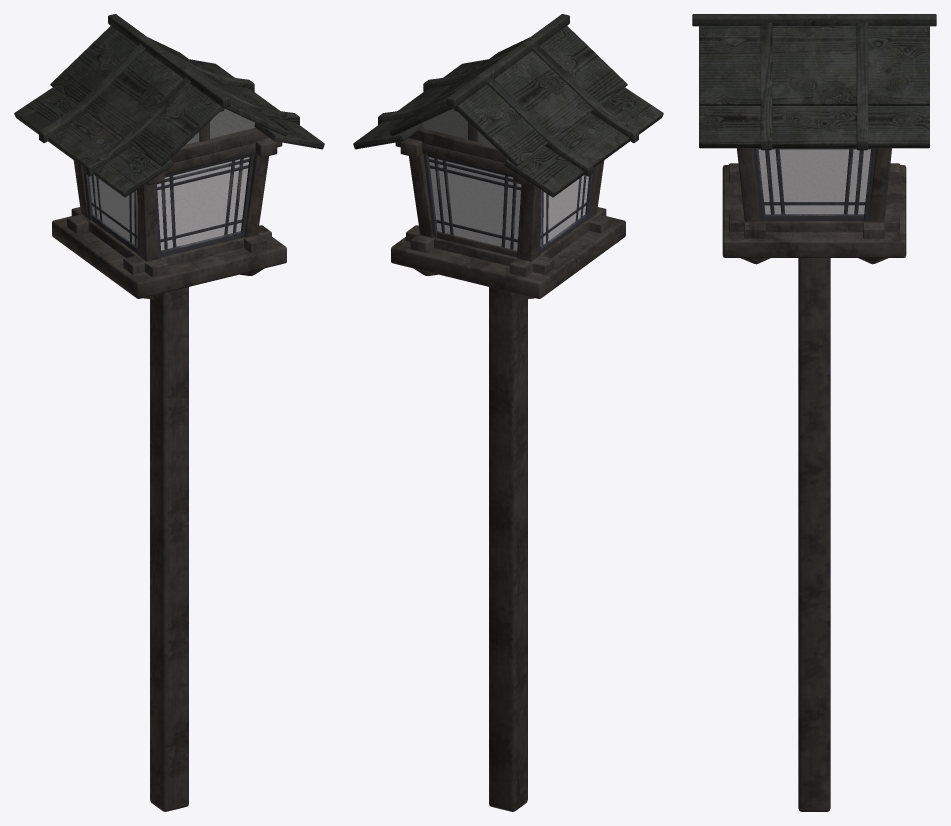
Rendered from Lantern1.fbx.
3 renders of one model, left to right at view 1: azimuth 30°, elevation 25°; view 2: azimuth 150°, elevation 25°; view 3: azimuth 270°, elevation 25°, orthographic. The views are drawn at different scales.
Visible parts, largest first — view 1: Lantern1; view 2: Lantern1; view 3: Lantern1.
Boxes of the visible parts, left/top/right/bottom form: Lantern1: left=14, top=14, right=324, bottom=811; Lantern1: left=353, top=14, right=663, bottom=811; Lantern1: left=692, top=14, right=936, bottom=811.
Size of the model in its own units: 0.4831 by 1.64 by 0.4587.
